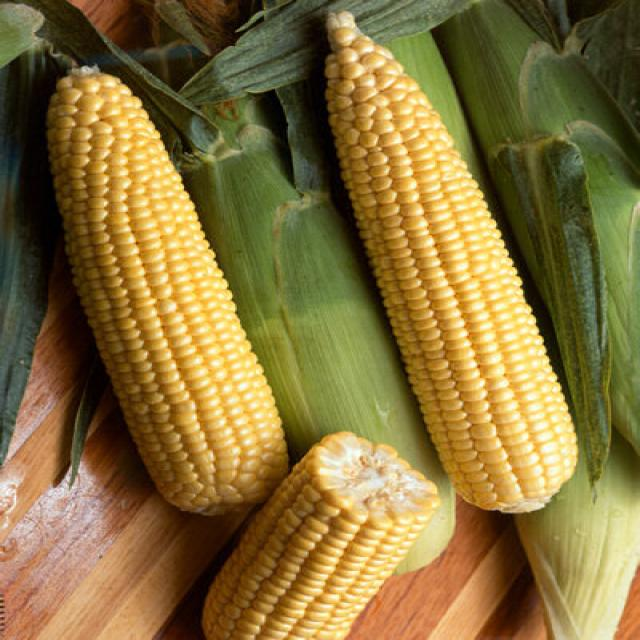corn: (292, 16, 592, 517), (17, 41, 279, 524), (169, 433, 452, 640)
